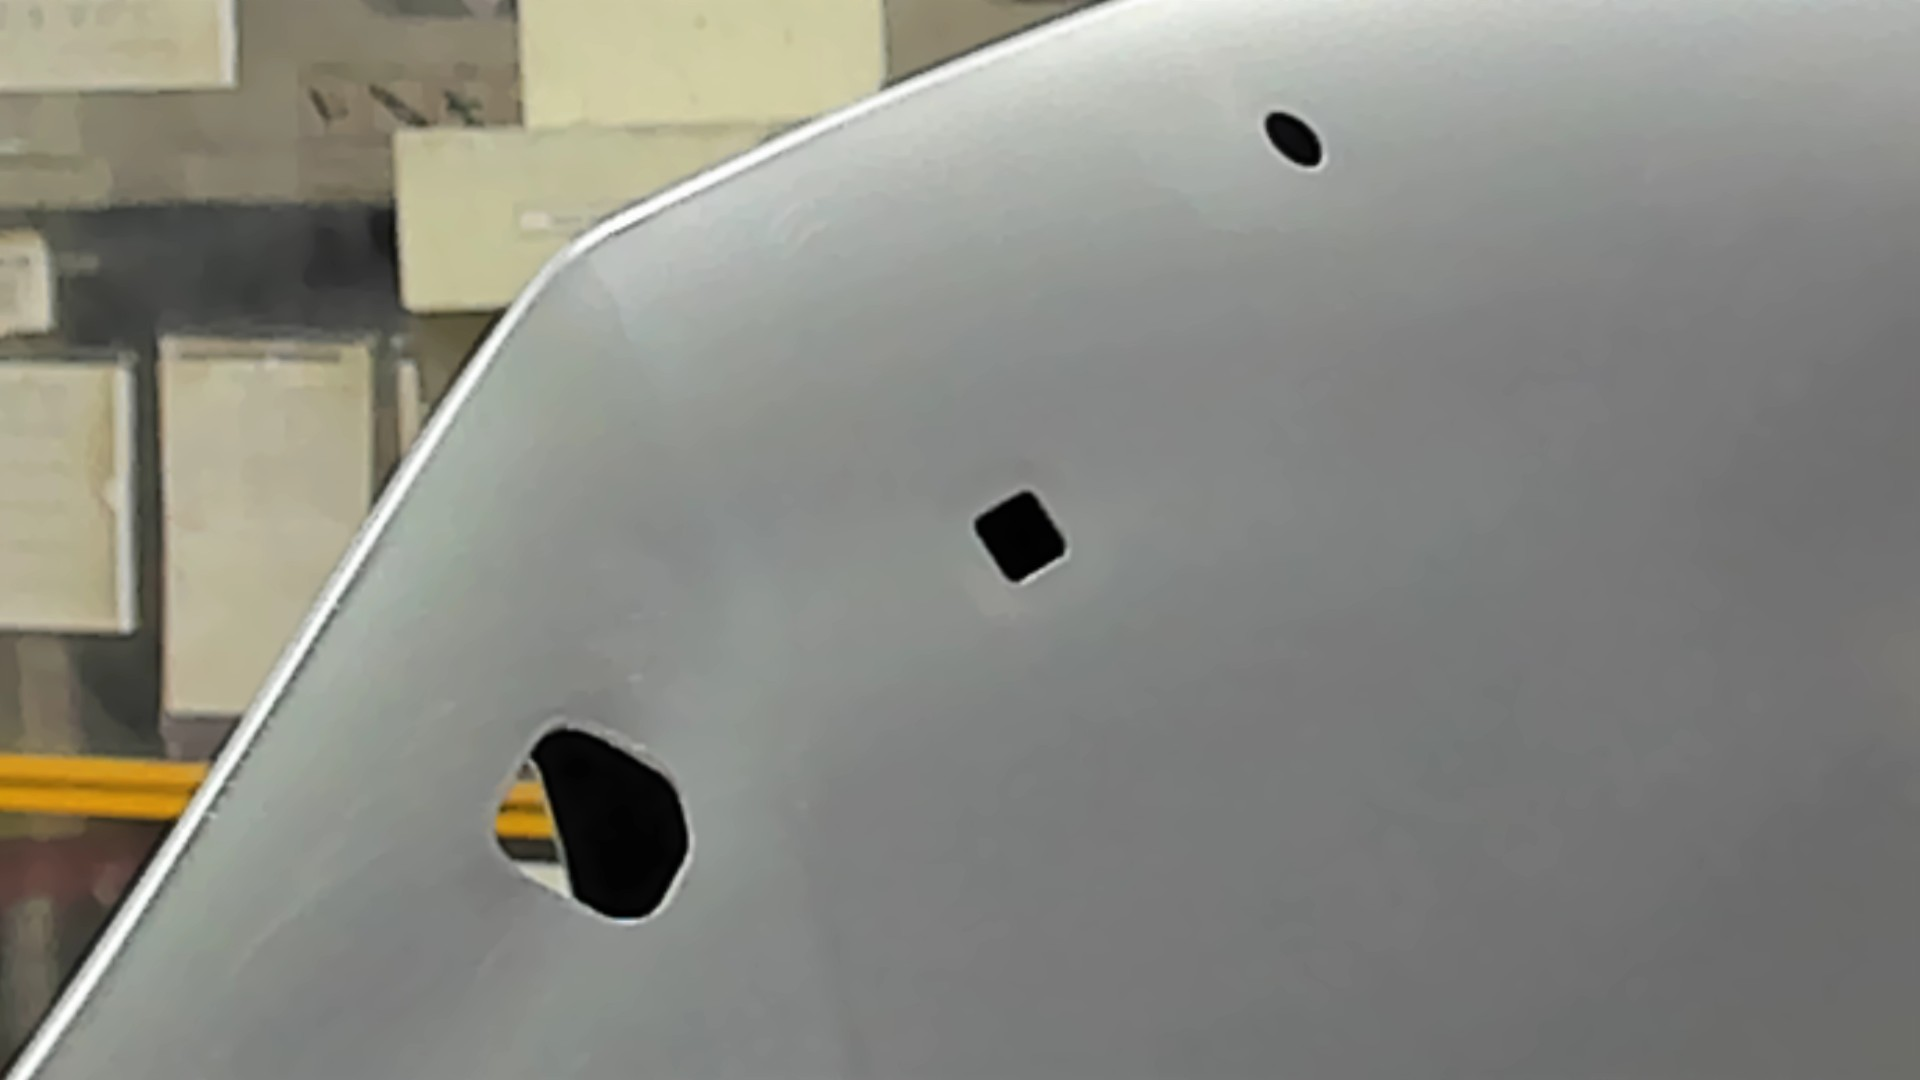chico: (1255, 104, 1331, 171)
grande: (484, 713, 698, 928)
mediano: (969, 487, 1075, 591)
